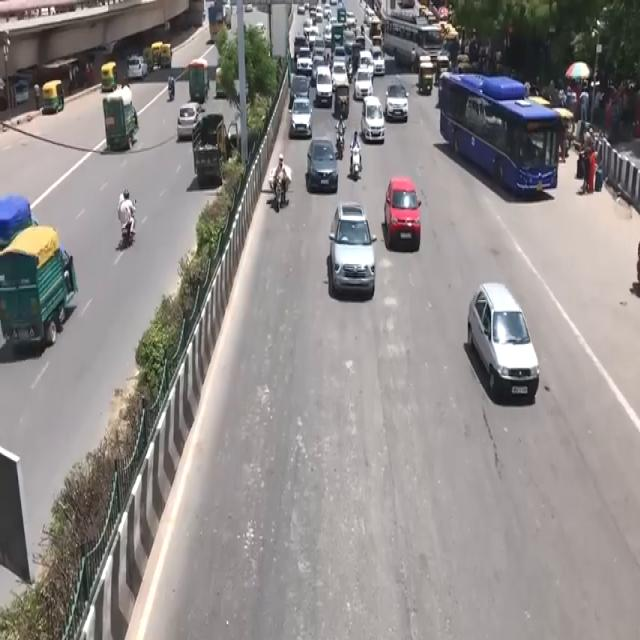BUS: (440, 69, 564, 208)
MOTORCYCLE: (350, 148, 362, 184)
